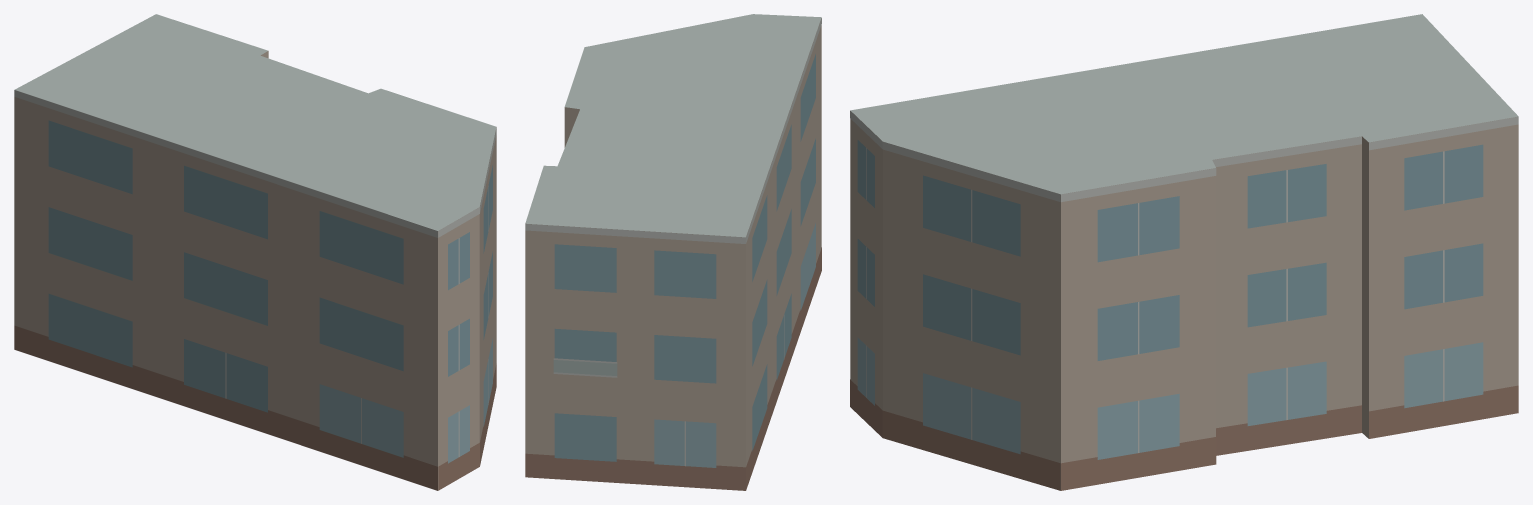
File: survey-upis-32928042.glb
3 renders of one model, left to right at view 1: azimuth 30°, elevation 25°; view 2: azimuth 150°, elevation 25°; view 3: azimuth 270°, elevation 25°, orthographic. The views are drawn at different scales.
Parts seen in each view (by area): view 1: survey-upis-32928042.tmp; view 2: survey-upis-32928042.tmp; view 3: survey-upis-32928042.tmp.
Part boxes in pixels (<box>): survey-upis-32928042.tmp: <box>14,14,496,490</box>; survey-upis-32928042.tmp: <box>525,14,821,490</box>; survey-upis-32928042.tmp: <box>850,14,1518,490</box>.
Size of the model in its own units: 11.94 by 9.15 by 18.71.
